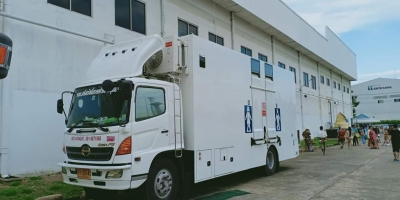truck: (57, 33, 214, 199)
